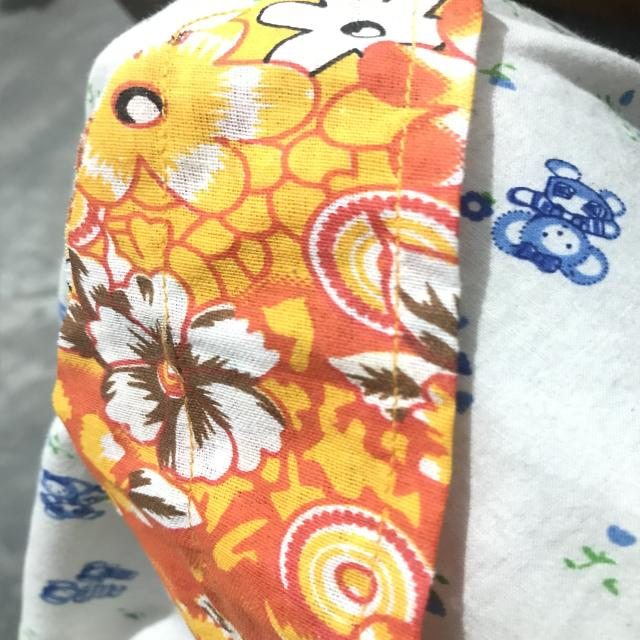skip: (127, 304, 189, 394)
